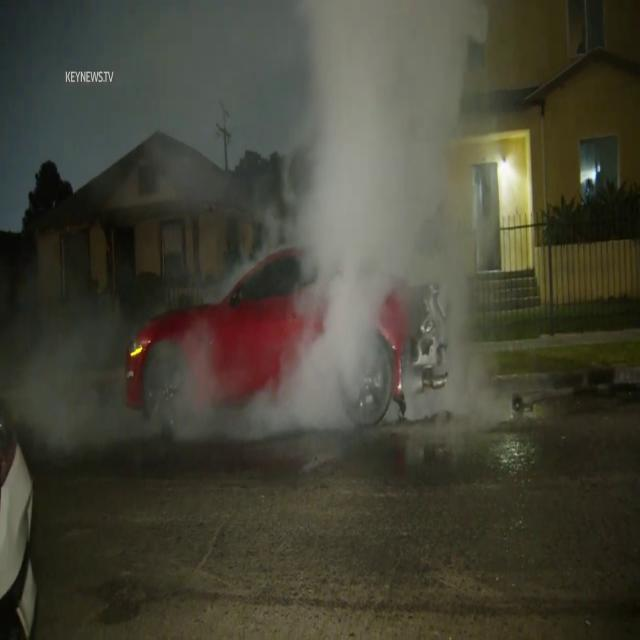Smoke: (263, 0, 501, 432), (2, 247, 140, 461)
